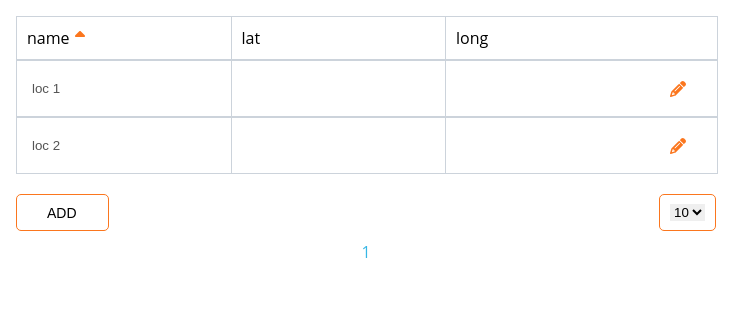
Scenario: check added new row after add button clicked
Step 1. Click the button with test id "btn-add" → click(62, 212), box top-left (16, 194), bottom-right (109, 231)
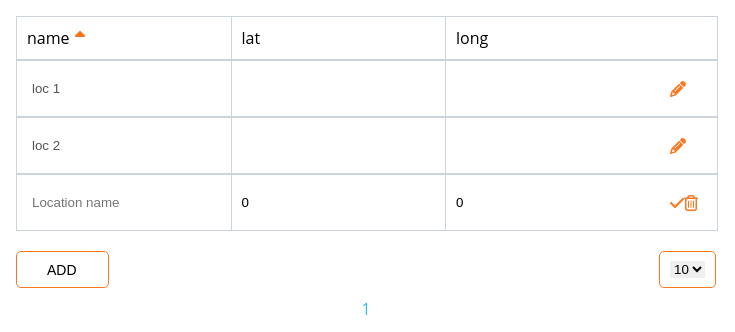
Result: the element with class "table-row-new" is shown at top-left (16, 174), bottom-right (718, 231)
